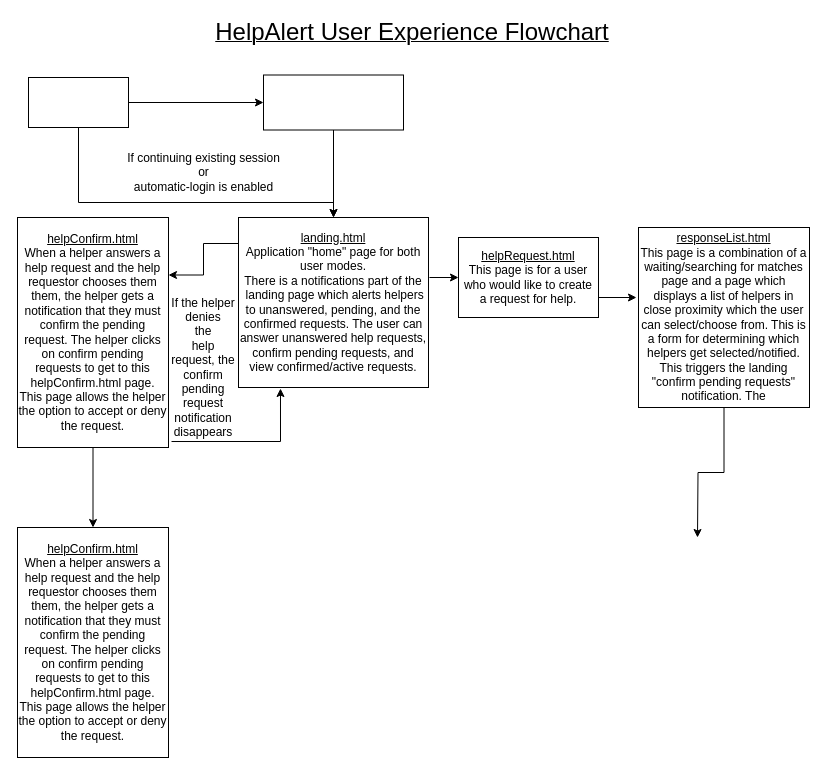
Some shapes in this 827 by 775 pixel diagram are drawn without their labels. The centre of each missing label's shape, as x and y in pixels:
login.html Application opens to login screen.: (333,102)
User selects/opens application: (78,102)
